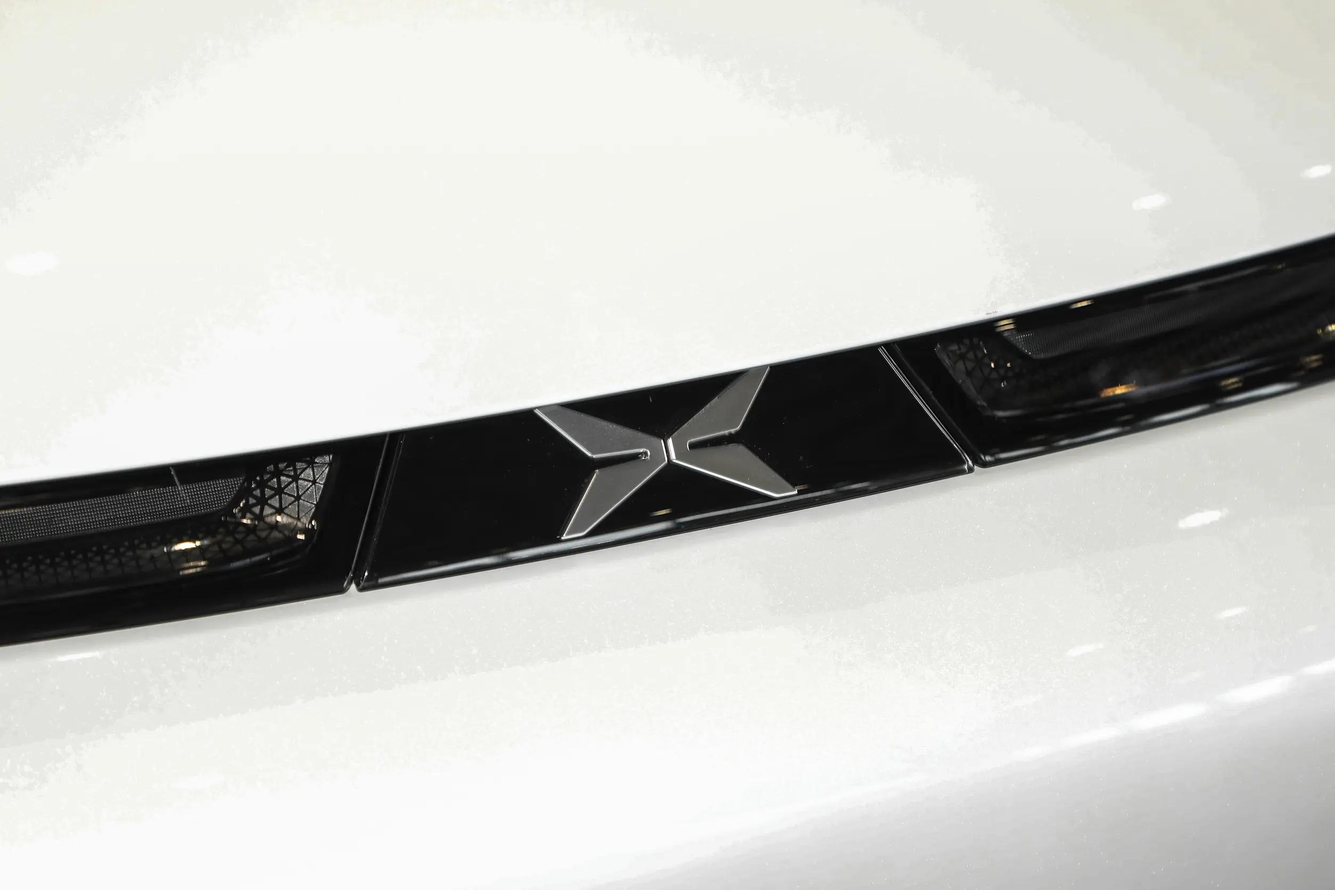XPeng Motors: (532, 366, 797, 538)
